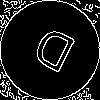D: (25, 25, 78, 83)
